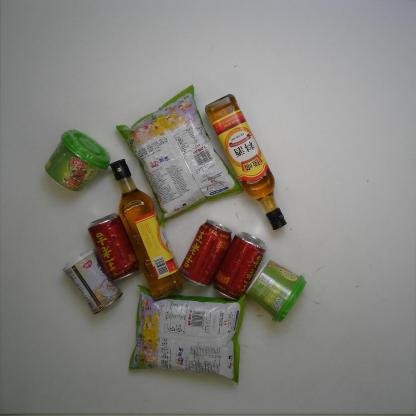Canned Food: (60, 248, 123, 316)
Drink: (176, 219, 232, 288), (212, 232, 266, 302), (88, 212, 140, 283)
Instant Drink: (45, 128, 113, 193), (244, 260, 308, 324)
Puffed Food: (114, 84, 243, 225), (129, 285, 245, 386)
Seasoner: (202, 94, 286, 231), (109, 158, 185, 302)
